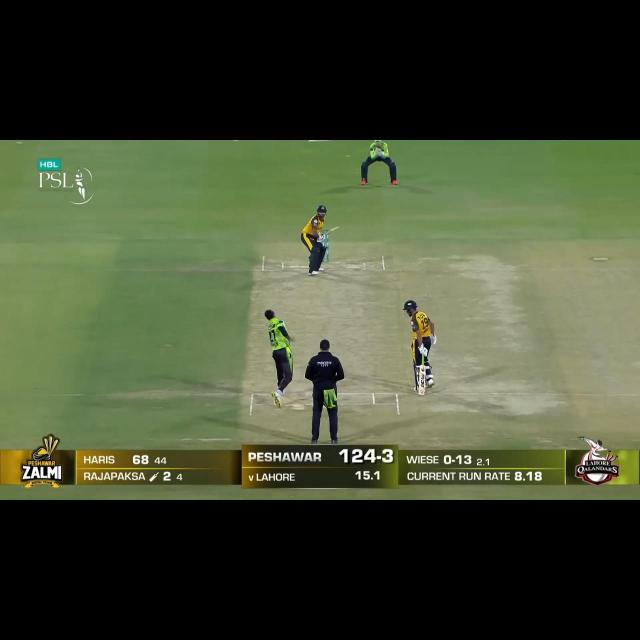bat: (419, 366, 427, 396), (323, 226, 339, 237)
toe: (418, 392, 425, 396), (334, 226, 339, 231)
